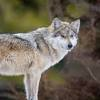Lobo: (1, 14, 86, 90)
